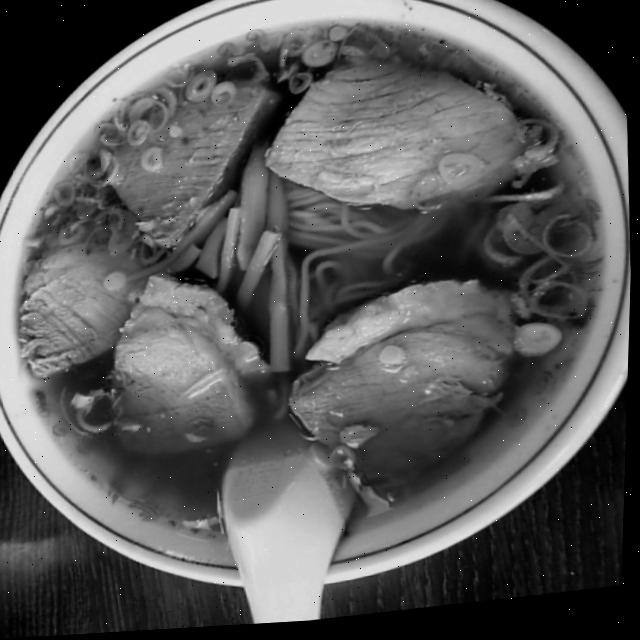面条主食: (0, 3, 622, 576)
